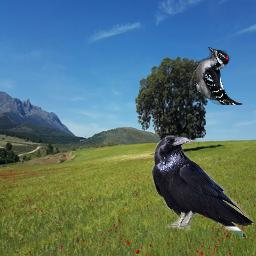Crow: (152, 135, 254, 239)
Woodpecker: (194, 47, 243, 105)
